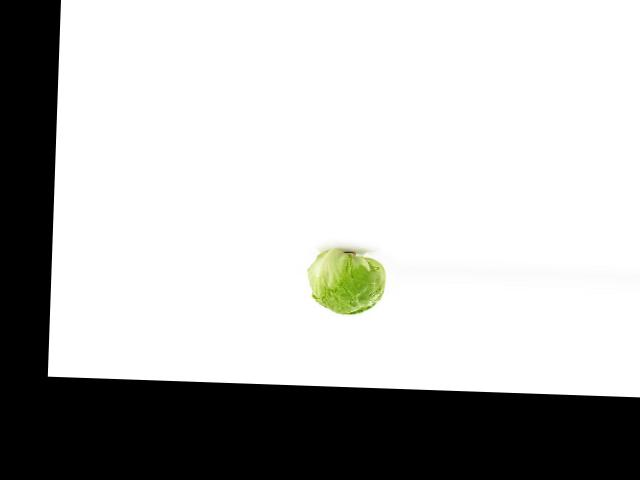lettuce: (305, 252, 396, 318)
